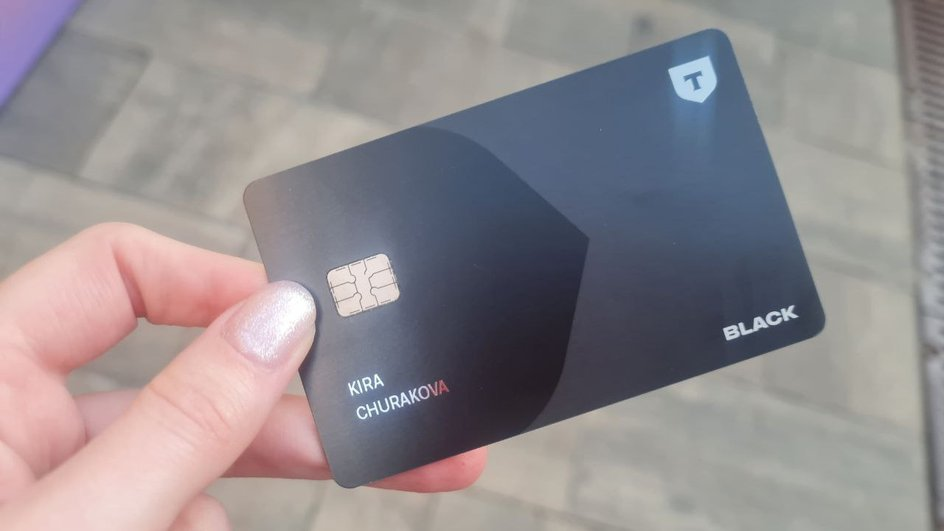TBank: (667, 55, 719, 104)
